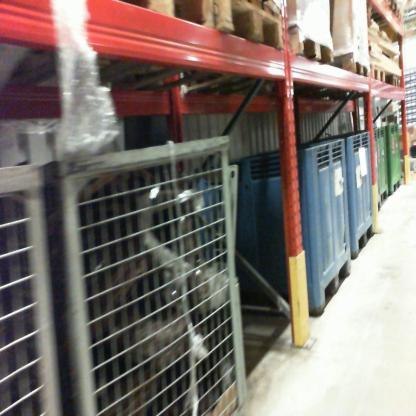pallets: (125, 0, 292, 54), (305, 222, 378, 318), (298, 37, 406, 91)
